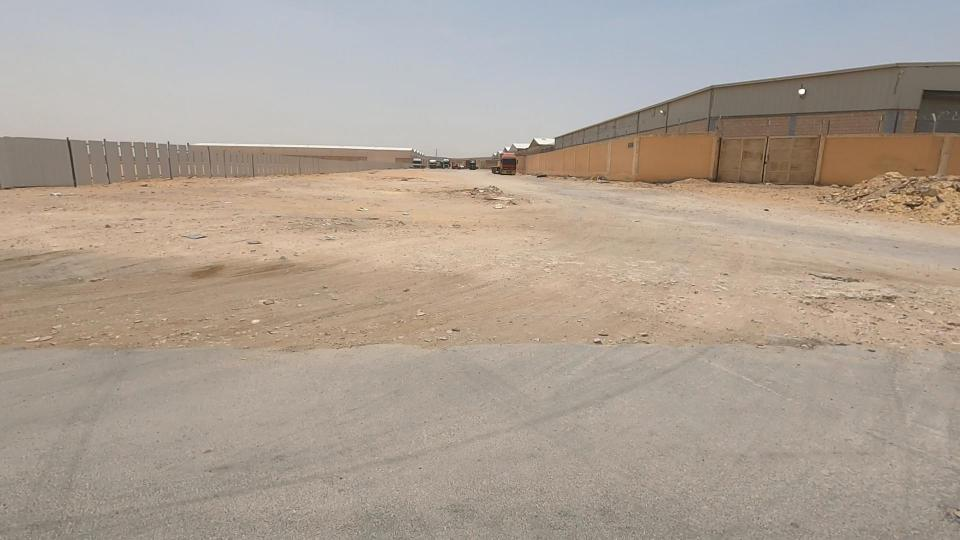GARBAGE: (441, 172, 552, 238)
